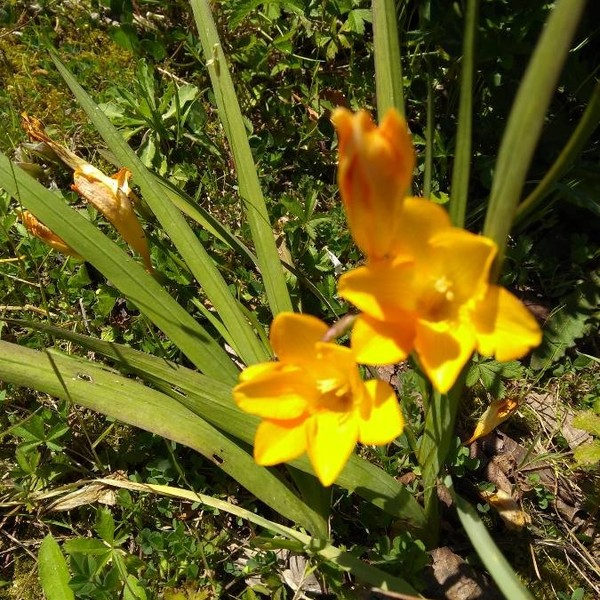obstacle: (81, 120, 557, 489)
